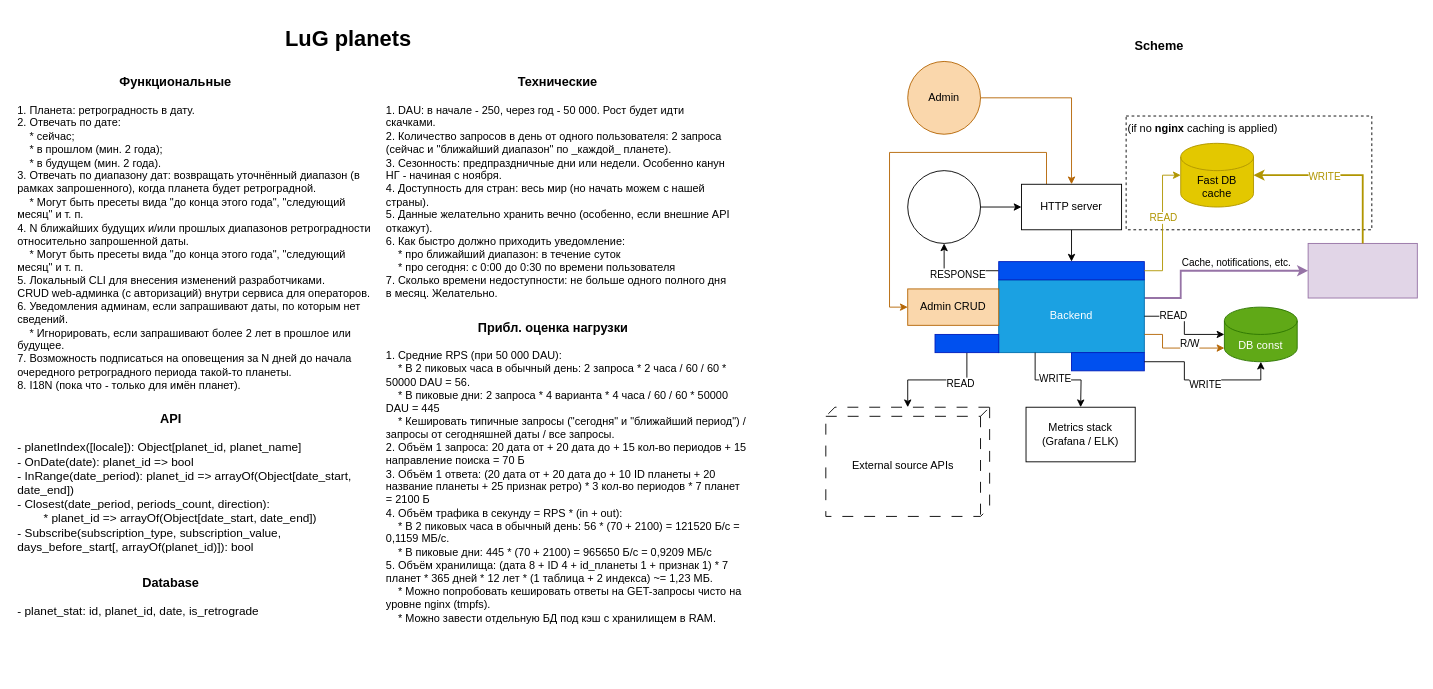
The diagram is 1433 pixels wide and 689 high, and some of its shapes have lost their labels. Here are the shapes that lost their labels. From the top down, the centre of each, then its label:
At point 944,206: "User".
At point 1071,270: "API server".
At point 1362,270: "Message broker / queue server".
At point 966,343: "API client".
At point 1107,361: "Local CLI".
